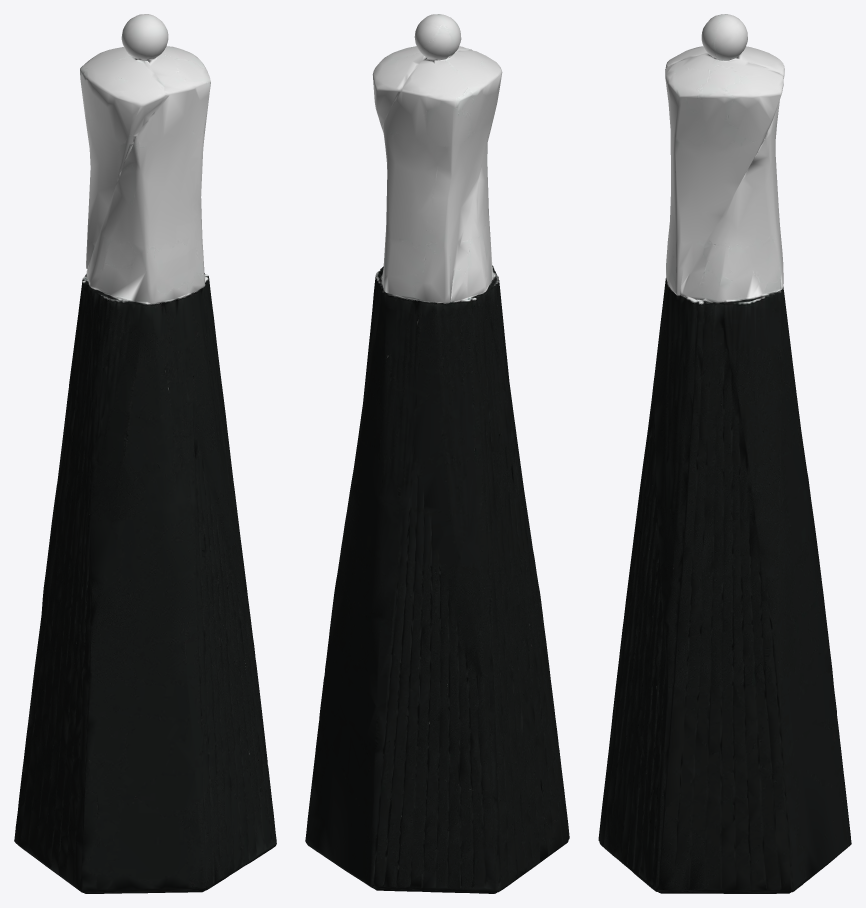
The model's file is queen-black-hd.glb.
3 views of the same model, side by side, from view 1: azimuth 30°, elevation 25°; view 2: azimuth 150°, elevation 25°; view 3: azimuth 270°, elevation 25° (orthographic).
Size of the model in its own units: 0.4102 by 1.65 by 0.454.
Materials: 1 (1 with a texture image).
